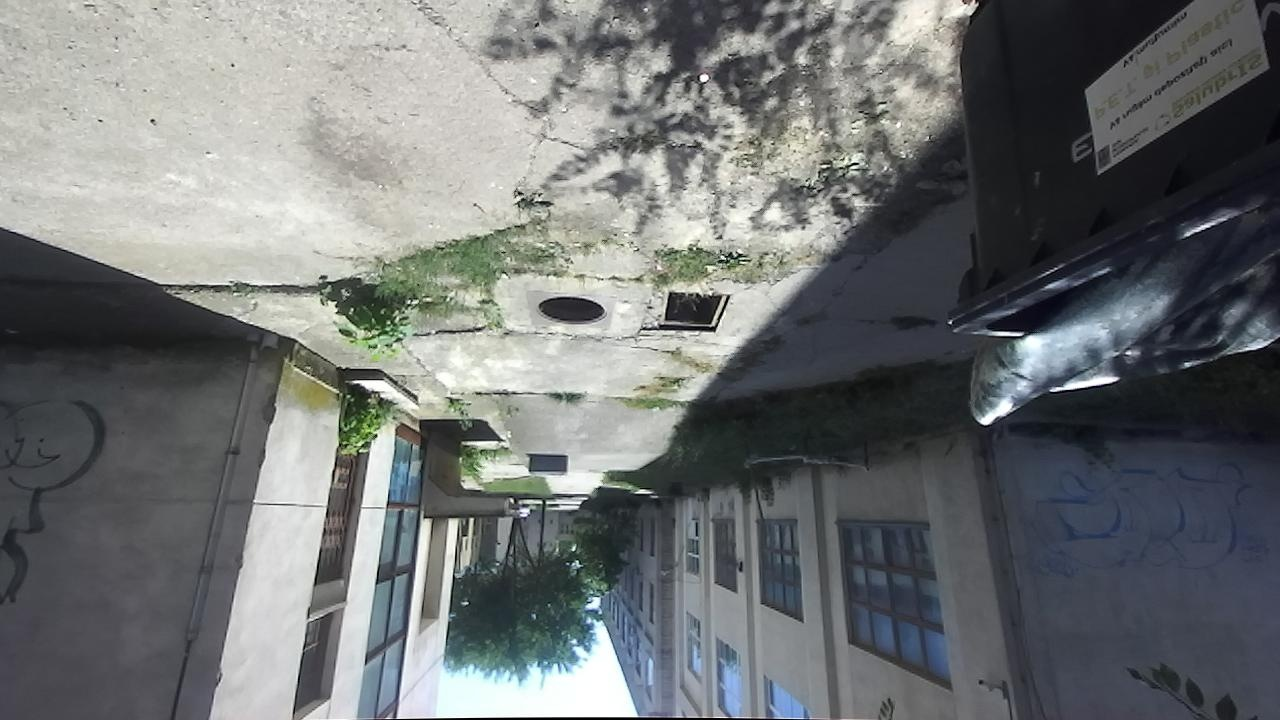drain: (642, 291, 743, 326), (533, 296, 611, 328)
